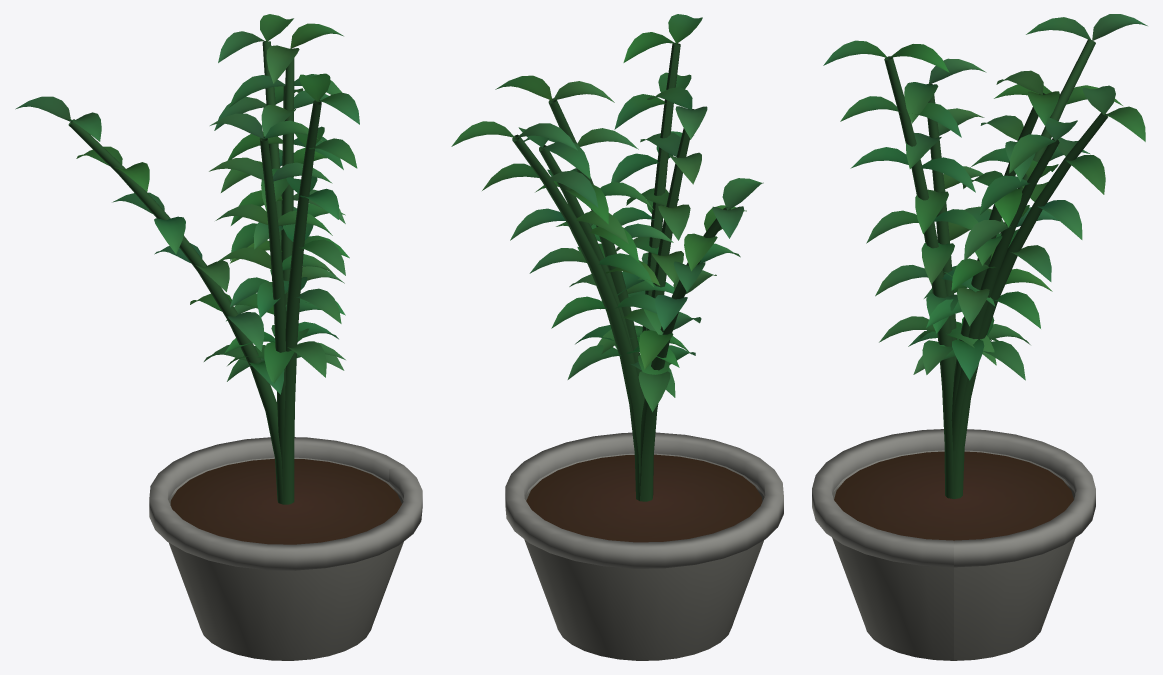
File: zamioculca.glb
3 views of the same model, side by side, from view 1: azimuth 30°, elevation 25°; view 2: azimuth 150°, elevation 25°; view 3: azimuth 270°, elevation 25° (orthographic). The views are drawn at different scales.
Visible parts, largest first — view 1: zamioculca; view 2: zamioculca; view 3: zamioculca.
Part boxes in pixels (x1=…): zamioculca: x1=15, y1=14, x2=422, y2=660; zamioculca: x1=451, y1=14, x2=783, y2=660; zamioculca: x1=812, y1=14, x2=1147, y2=660.
Bounding box in the file's own units: 0.2385 × 0.4292 × 0.2265.
